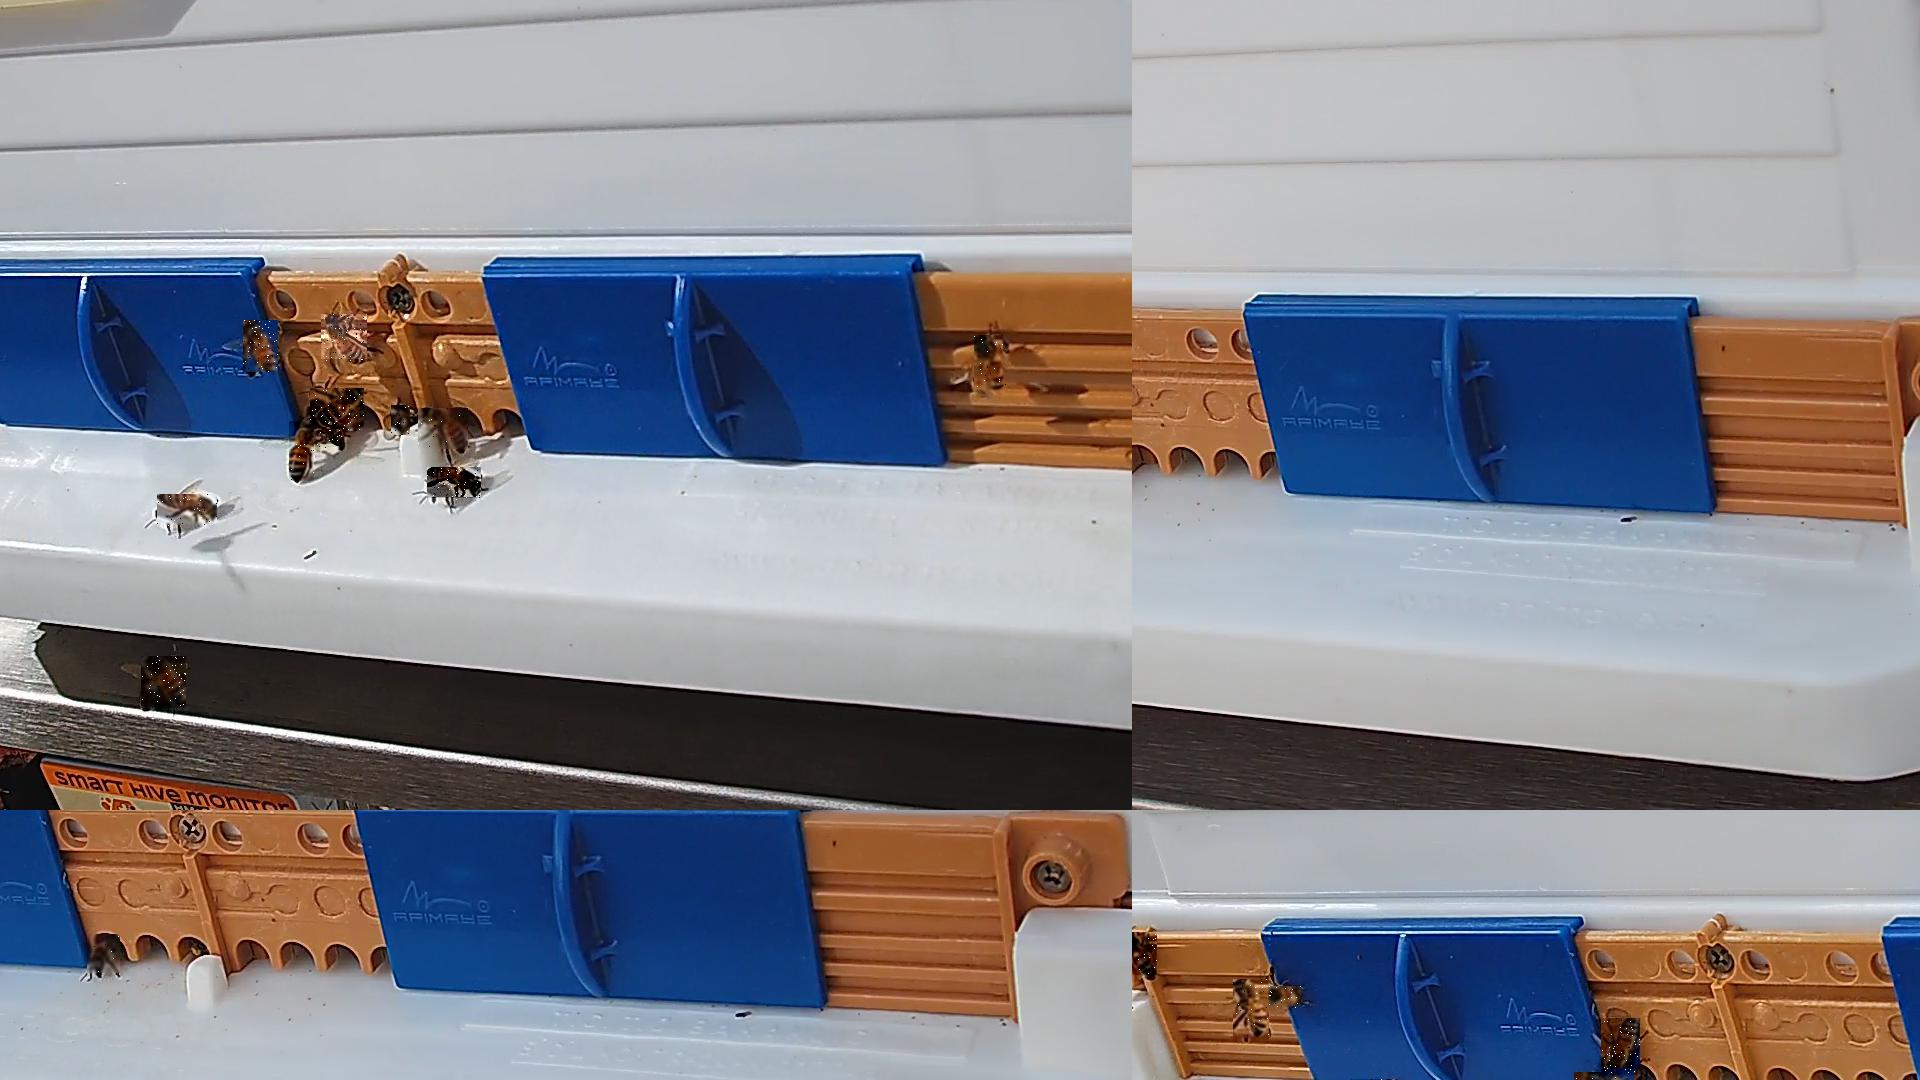bee: (141, 657, 187, 711), (310, 389, 365, 433), (1233, 980, 1270, 1042), (418, 409, 469, 452), (1601, 1019, 1642, 1073), (322, 315, 368, 363), (157, 495, 218, 527), (243, 320, 280, 373), (975, 336, 1007, 394), (427, 468, 483, 502), (289, 421, 315, 483), (87, 935, 121, 976), (1131, 932, 1159, 978), (314, 409, 343, 451), (1258, 986, 1302, 1010), (392, 405, 411, 436), (1575, 1072, 1636, 1079)
